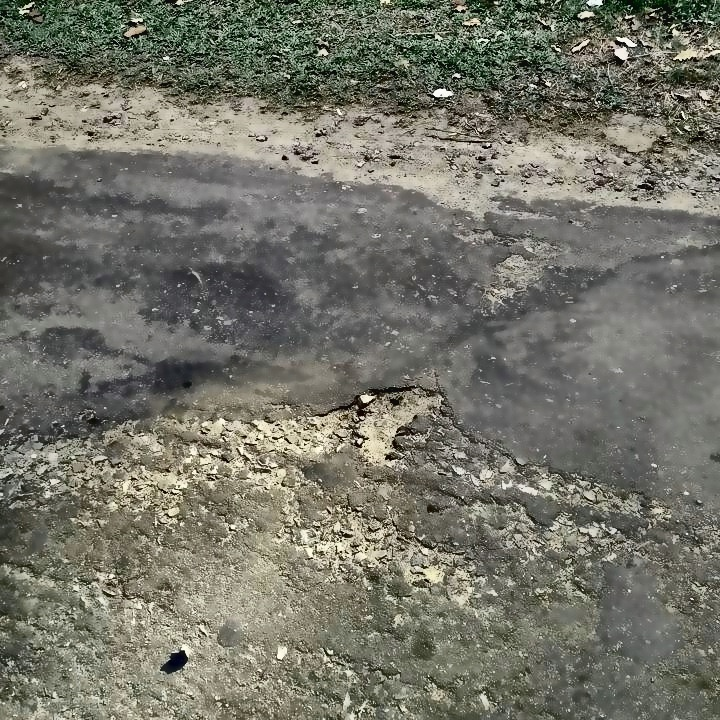pothole: (347, 382, 450, 470)
